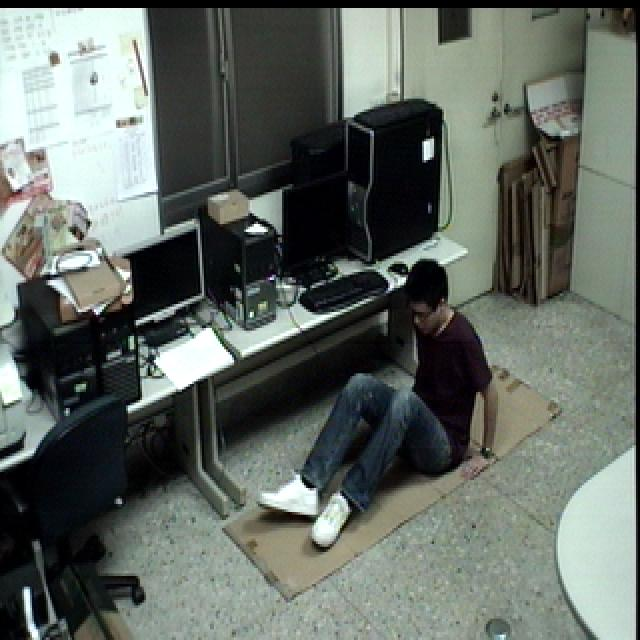sit: (254, 256, 506, 553)
